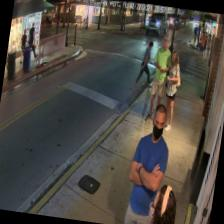person: (121, 101, 175, 224), (144, 36, 174, 124), (156, 50, 182, 132), (143, 182, 183, 224)
